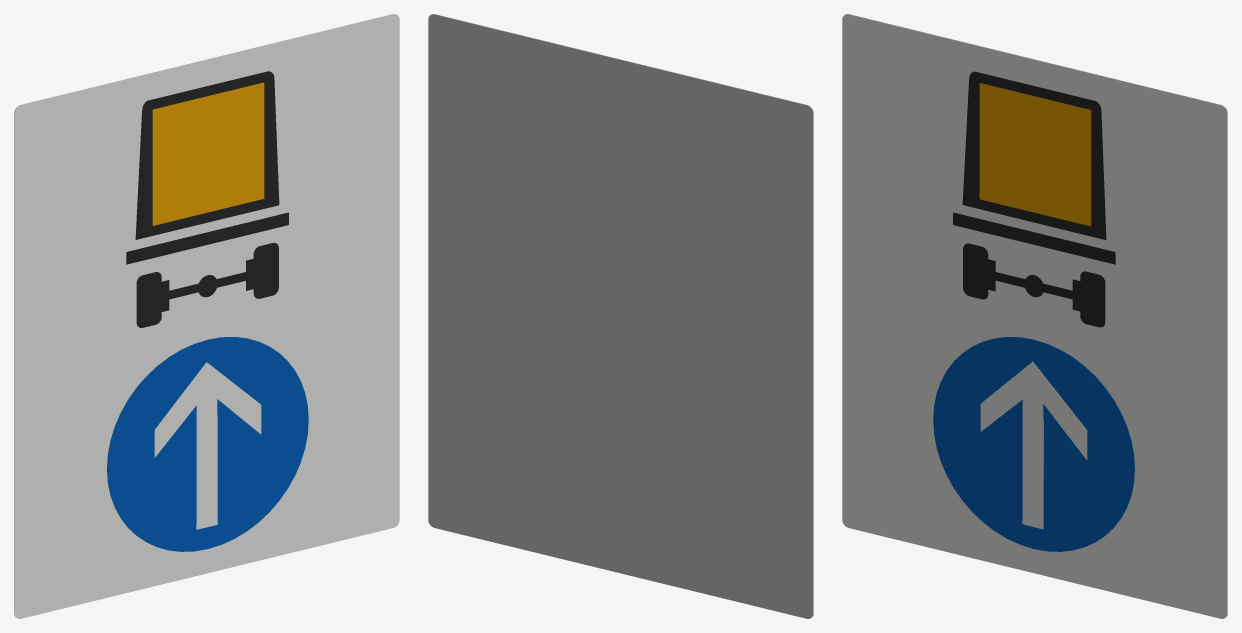
3 renders of one model, left to right at view 1: azimuth 30°, elevation 25°; view 2: azimuth 150°, elevation 25°; view 3: azimuth 330°, elevation 25°, orthographic.
Parts seen in each view (by area): view 1: C117-B21b_p00, C117-B21b_p05, C117-B21b_p01, C117-B21b_p02, C117-B21b_p06, C117-B21b_p04, C117-B21b_p03, C117-B21b_dos; view 2: C117-B21b_dos, C117-B21b_p00; view 3: C117-B21b_p00, C117-B21b_p05, C117-B21b_p01, C117-B21b_p06, C117-B21b_p02, C117-B21b_p04, C117-B21b_p03, C117-B21b_dos.
Part boxes in pixels (x1=…): C117-B21b_p00: x1=14, y1=14, x2=399, y2=618; C117-B21b_p05: x1=107, y1=337, x2=308, y2=551; C117-B21b_p01: x1=152, y1=82, x2=264, y2=225; C117-B21b_p02: x1=135, y1=71, x2=279, y2=239; C117-B21b_p06: x1=154, y1=362, x2=261, y2=529; C117-B21b_p04: x1=136, y1=243, x2=278, y2=327; C117-B21b_p03: x1=126, y1=212, x2=288, y2=264; C117-B21b_dos: x1=14, y1=14, x2=394, y2=616; C117-B21b_dos: x1=428, y1=14, x2=813, y2=618; C117-B21b_p00: x1=433, y1=14, x2=813, y2=616; C117-B21b_p00: x1=842, y1=14, x2=1227, y2=618; C117-B21b_p05: x1=933, y1=337, x2=1134, y2=551; C117-B21b_p01: x1=979, y1=83, x2=1091, y2=226; C117-B21b_p06: x1=980, y1=361, x2=1087, y2=529; C117-B21b_p02: x1=962, y1=71, x2=1106, y2=239; C117-B21b_p04: x1=963, y1=243, x2=1105, y2=327; C117-B21b_p03: x1=953, y1=212, x2=1115, y2=264; C117-B21b_dos: x1=847, y1=14, x2=1227, y2=616.
Size of the model in its own units: 0.7 by 0.8925 by 0.0043.
